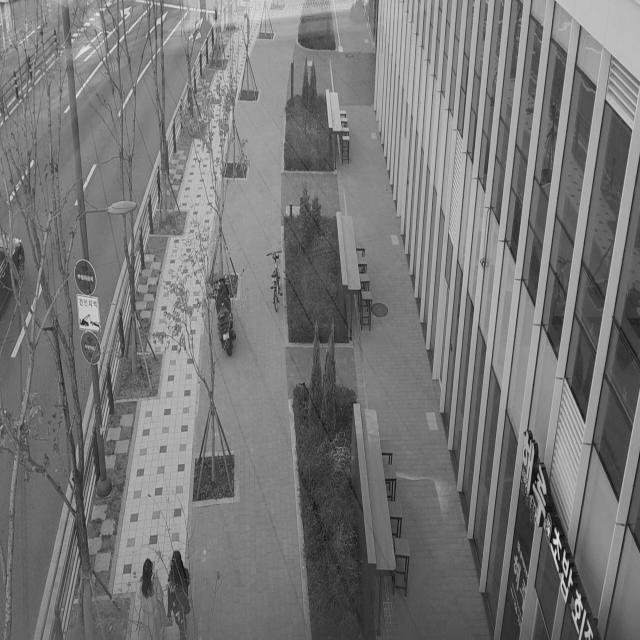Car: (0, 210, 39, 339)
